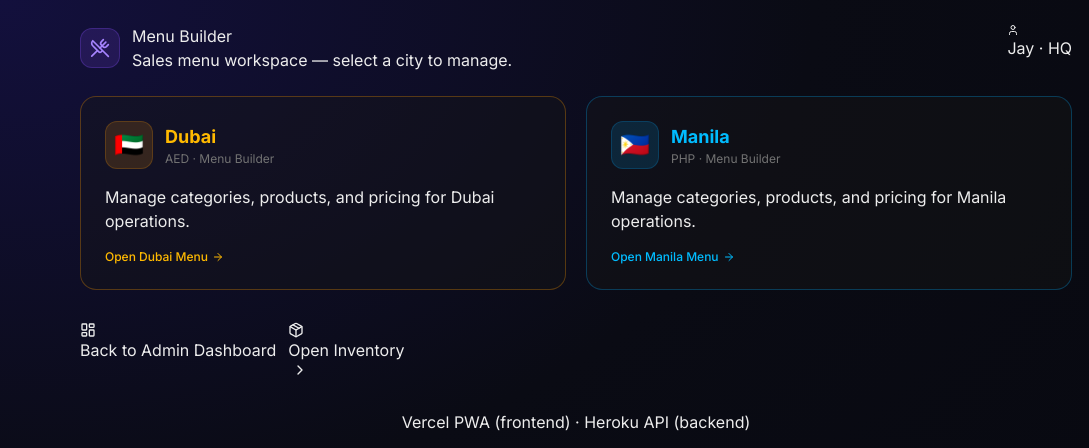
Test case: AdminMenuPage — CityMenuBuilder view › clicking Dubai button shows Dubai Menu Builder
Check: the heading "Menu Builder" is shown, box [132,26,232,46]
Click the button that starts with "Dubai". click: (323, 193)
box: [80,96,566,290]
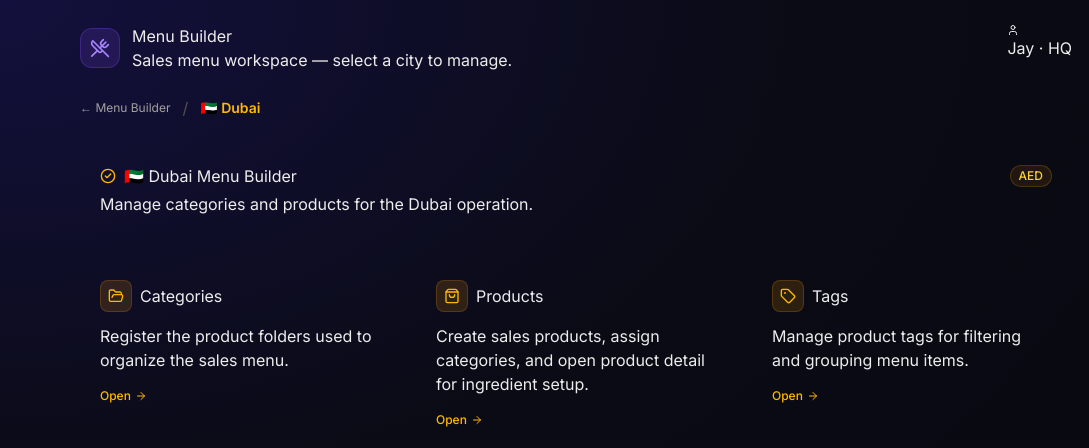
Check: the heading "🇦🇪 Dubai Menu Builder" is shown, box [124,164,297,188]
